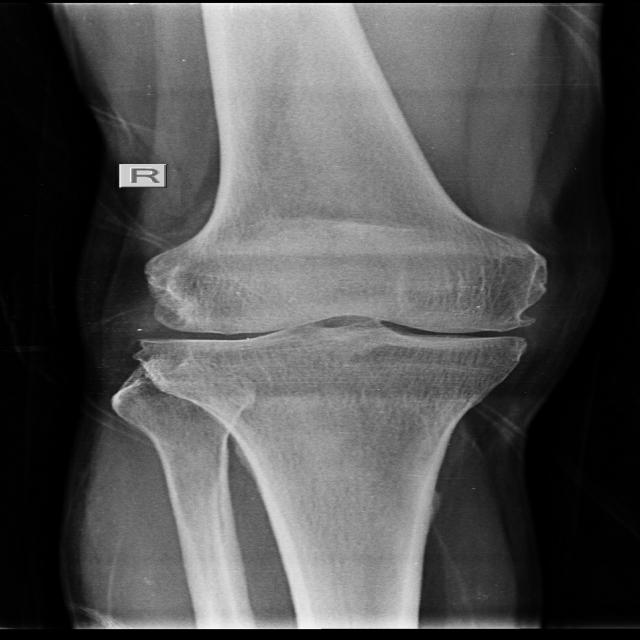osteo: (138, 237, 551, 396)
